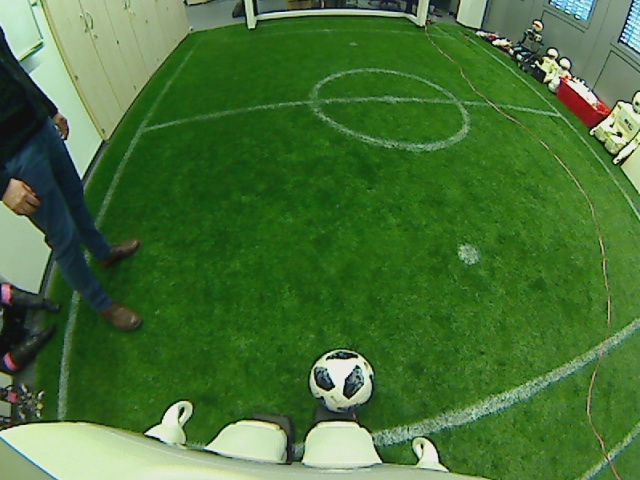ball: (306, 347, 375, 411)
